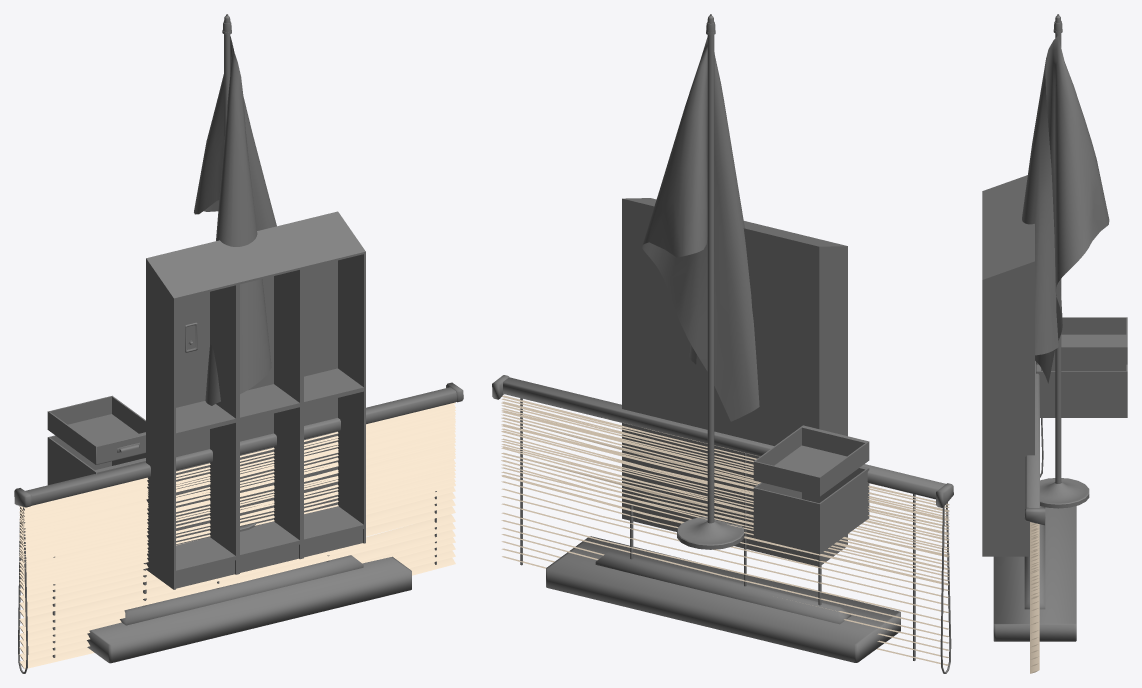
File: Props1.fbx
3 renders of one model, left to right at view 1: azimuth 30°, elevation 25°; view 2: azimuth 150°, elevation 25°; view 3: azimuth 270°, elevation 25°, orthographic. The views are drawn at different scales.
Visible parts, largest first — view 1: SM_Locker, SM_Blinds1, SM_Blinds2, SM_HangingLamp, SM_Flag, SM_Drawer1, SM_Drawer2; view 2: SM_Locker, SM_Flag, SM_Blinds2, SM_HangingLamp, SM_Blinds1, SM_Drawer2, SM_Drawer1, SM_LockerDoor; view 3: SM_Locker, SM_Flag, SM_HangingLamp, SM_Drawer2, SM_Drawer1, SM_Blinds2, SM_Blinds1.
Part boxes in pixels (left/top/right/bottom): SM_Locker: left=146, top=211, right=365, bottom=589; SM_Blinds1: left=19, top=404, right=455, bottom=669; SM_Blinds2: left=14, top=382, right=463, bottom=673; SM_HangingLamp: left=87, top=555, right=411, bottom=663; SM_Flag: left=194, top=14, right=276, bottom=531; SM_Drawer1: left=47, top=395, right=145, bottom=464; SM_Drawer2: left=47, top=435, right=145, bottom=485; SM_Locker: left=622, top=198, right=847, bottom=566; SM_Flag: left=642, top=14, right=759, bottom=549; SM_Blinds2: left=492, top=375, right=953, bottom=673; SM_HangingLamp: left=546, top=505, right=900, bottom=662; SM_Blinds1: left=501, top=395, right=949, bottom=665; SM_Drawer2: left=753, top=466, right=869, bottom=554; SM_Drawer1: left=753, top=425, right=869, bottom=496; SM_LockerDoor: left=746, top=249, right=786, bottom=400; SM_Locker: left=982, top=175, right=1034, bottom=556; SM_Flag: left=1022, top=14, right=1109, bottom=508; SM_HangingLamp: left=993, top=506, right=1076, bottom=641; SM_Drawer2: left=1036, top=364, right=1127, bottom=417; SM_Drawer1: left=1036, top=317, right=1127, bottom=364; SM_Blinds2: left=1024, top=361, right=1045, bottom=599; SM_Blinds1: left=1030, top=522, right=1039, bottom=673.
Size of the model in its own units: 290 by 377 by 87.62.
